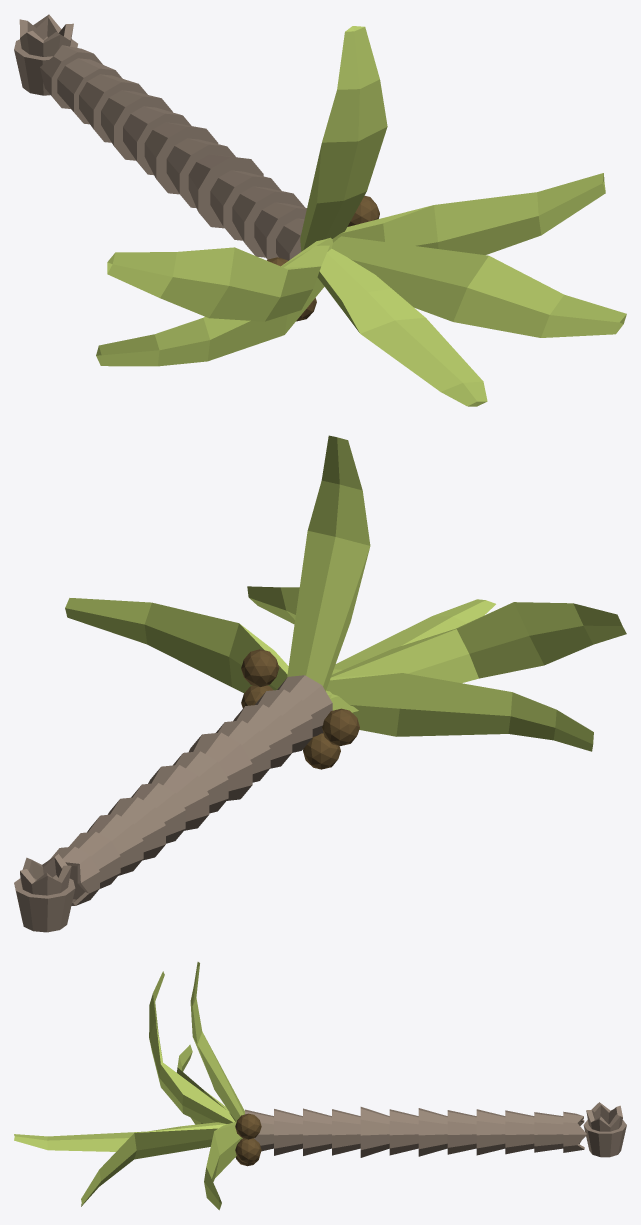
Rendered from Palmtree_1 Broken.fbx.
3 renders of one model, top to bottom at view 1: azimuth 30°, elevation 25°; view 2: azimuth 150°, elevation 25°; view 3: azimuth 270°, elevation 25°, orthographic. The views are drawn at different scales.
Parts seen in each view (by area): view 1: PalmtreeBroken_mesh; view 2: PalmtreeBroken_mesh; view 3: PalmtreeBroken_mesh.
Boxes of the visible parts, left/top/right/bottom form: PalmtreeBroken_mesh: left=14, top=14, right=626, bottom=406; PalmtreeBroken_mesh: left=14, top=435, right=626, bottom=932; PalmtreeBroken_mesh: left=14, top=962, right=626, bottom=1210.
Bounding box in the file's own units: 599 × 333 × 886.
